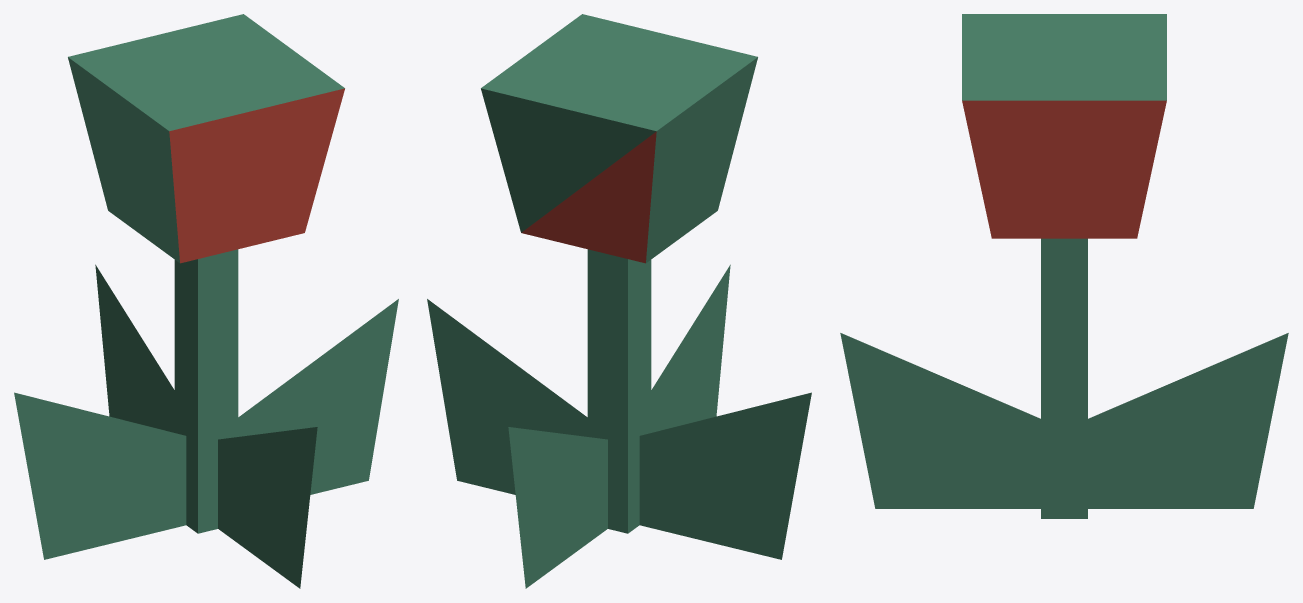
Rendered from naturePack_flat_011.obj.
3 views of the same model, side by side, from view 1: azimuth 30°, elevation 25°; view 2: azimuth 150°, elevation 25°; view 3: azimuth 270°, elevation 25° (orthographic).
Parts seen in each view (by area): view 1: Mesh1_Flower_Tall_Red_Model, Mesh2_Flower_Tall_Red_Model, Mesh5_Flower_Tall_Red_Model, Mesh3_Flower_Tall_Red_Model, Mesh4_Flower_Tall_Red_Model; view 2: Mesh1_Flower_Tall_Red_Model, Mesh2_Flower_Tall_Red_Model, Mesh5_Flower_Tall_Red_Model, Mesh4_Flower_Tall_Red_Model, Mesh3_Flower_Tall_Red_Model; view 3: Mesh1_Flower_Tall_Red_Model, Mesh4_Flower_Tall_Red_Model, Mesh3_Flower_Tall_Red_Model.
Part boxes in pixels (bbox=[...]): Mesh1_Flower_Tall_Red_Model: bbox=[68, 14, 344, 533]; Mesh2_Flower_Tall_Red_Model: bbox=[14, 392, 186, 559]; Mesh5_Flower_Tall_Red_Model: bbox=[238, 299, 398, 494]; Mesh3_Flower_Tall_Red_Model: bbox=[218, 427, 317, 588]; Mesh4_Flower_Tall_Red_Model: bbox=[95, 264, 174, 432]; Mesh1_Flower_Tall_Red_Model: bbox=[481, 14, 757, 533]; Mesh2_Flower_Tall_Red_Model: bbox=[639, 392, 811, 559]; Mesh5_Flower_Tall_Red_Model: bbox=[427, 299, 587, 494]; Mesh4_Flower_Tall_Red_Model: bbox=[508, 427, 607, 588]; Mesh3_Flower_Tall_Red_Model: bbox=[651, 264, 730, 432]; Mesh1_Flower_Tall_Red_Model: bbox=[962, 14, 1166, 518]; Mesh4_Flower_Tall_Red_Model: bbox=[1088, 333, 1288, 508]; Mesh3_Flower_Tall_Red_Model: bbox=[840, 333, 1040, 508].
Bounding box in the file's own units: 0.4859 × 0.54 × 0.4859.
